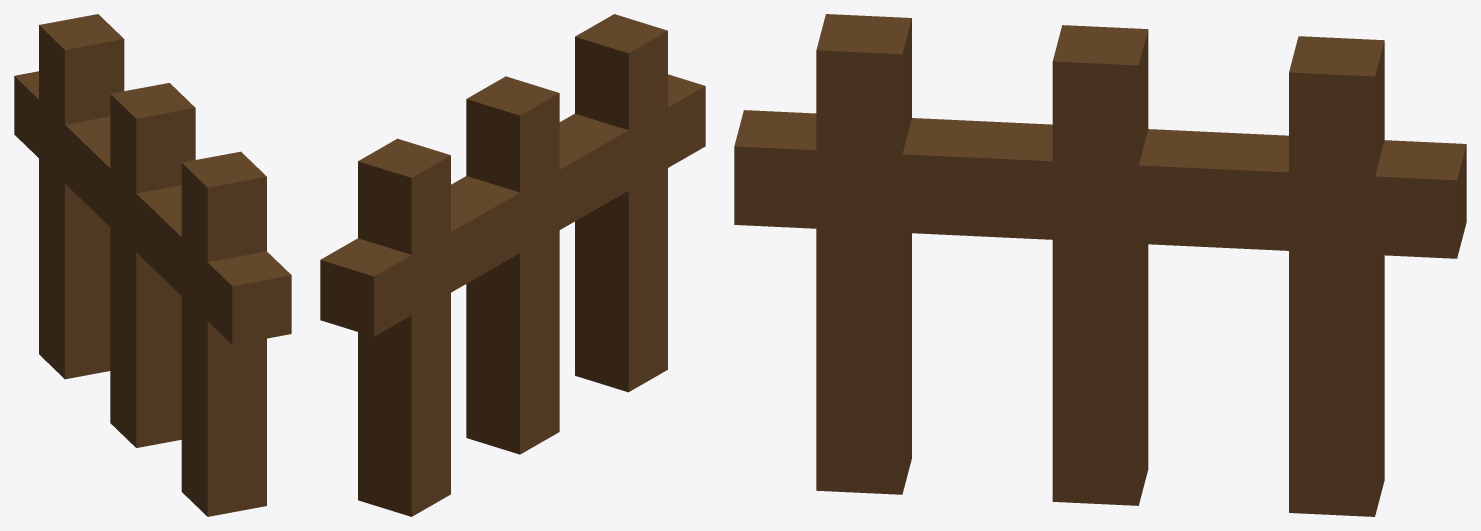
File: WOOD FENCE 3.fbx
The picture shows the model from 3 angles, left to right: view 1: azimuth 30°, elevation 25°; view 2: azimuth 150°, elevation 25°; view 3: azimuth 270°, elevation 25°; orthographic projection. The views are drawn at different scales.
Visible parts, largest first — view 1: WOOD_FENCE_3; view 2: WOOD_FENCE_3; view 3: WOOD_FENCE_3.
Boxes of the visible parts, <box> form: WOOD_FENCE_3: <box>14,14,291,516</box>; WOOD_FENCE_3: <box>320,14,705,516</box>; WOOD_FENCE_3: <box>734,14,1466,516</box>.
Size of the model in its own units: 26.89 by 78.58 by 118.
Materials: 1 (1 with a texture image).
